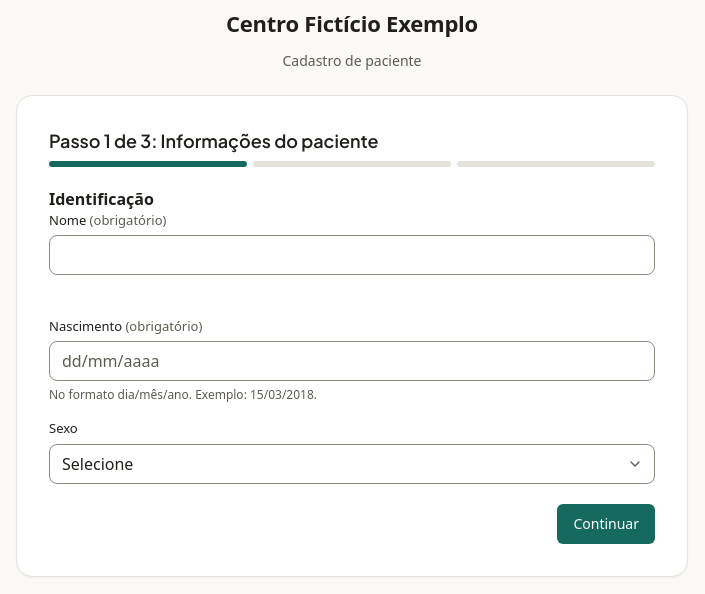
Test: Cadastro público — a página que a família abre › deve tratar a data como BRASILEIRA mesmo com o navegador em inglês
# ACT — a família digita só os números
In the field labelled "Nascimento (obrigatório)": (352, 361) [49,341,655,381], type "15032018"
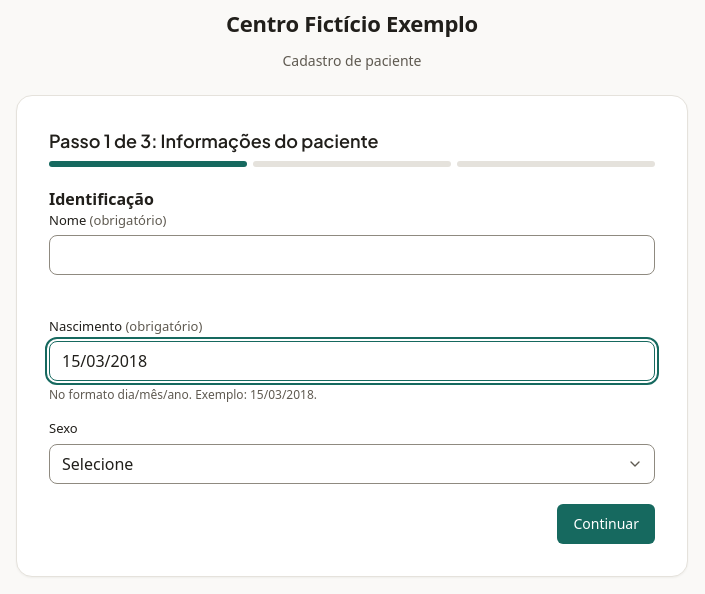
Result: the field labelled "Nascimento (obrigatório)" holds "15/03/2018" at [49,341,655,381]
